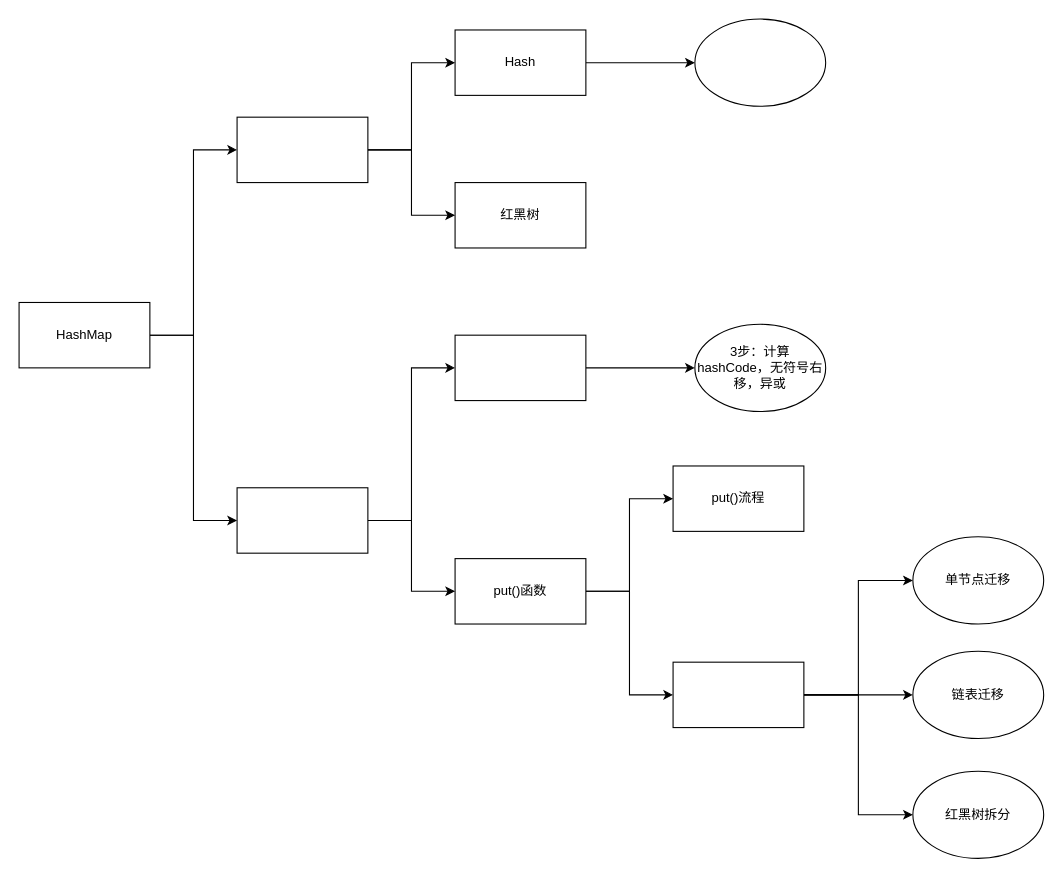
Image size: 1063x877. Some labels were removed from this diagram. Each missing label, with the centre of its shape:
"Hash()函数" goes at point 520,367.
"put()中扩容详解" goes at point 738,694.
"哈希函数、处理冲突的方法、哈希因子" goes at point 760,62.
"属性（数据结构）" goes at point 302,149.
"成员方法" goes at point 302,520.
